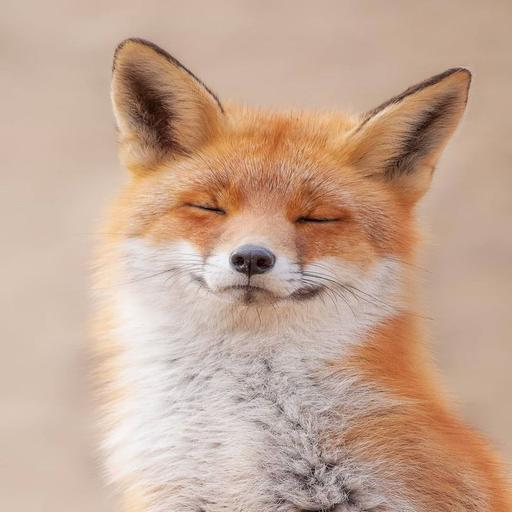Fox: (90, 38, 512, 509)
